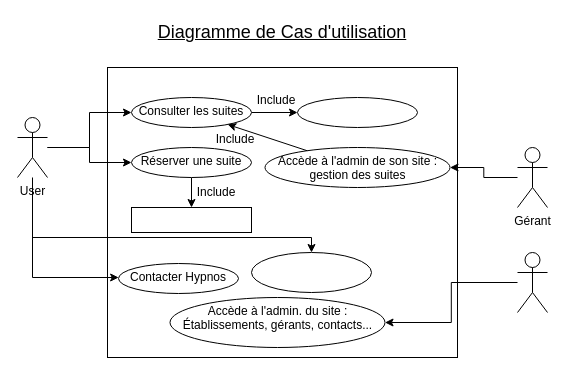
The diagram is 588 pixels wide and 375 high, and some of its shapes have lost their labels. The box of each missing label's shape, as (x1, y1, x2, y2) in pixels:
Administrateur: (516, 252, 548, 312)
Consulter les sites: (296, 96, 418, 128)
Modifier sa réservation: (250, 252, 372, 292)
Vérifie la disponibilité: (130, 206, 252, 232)
